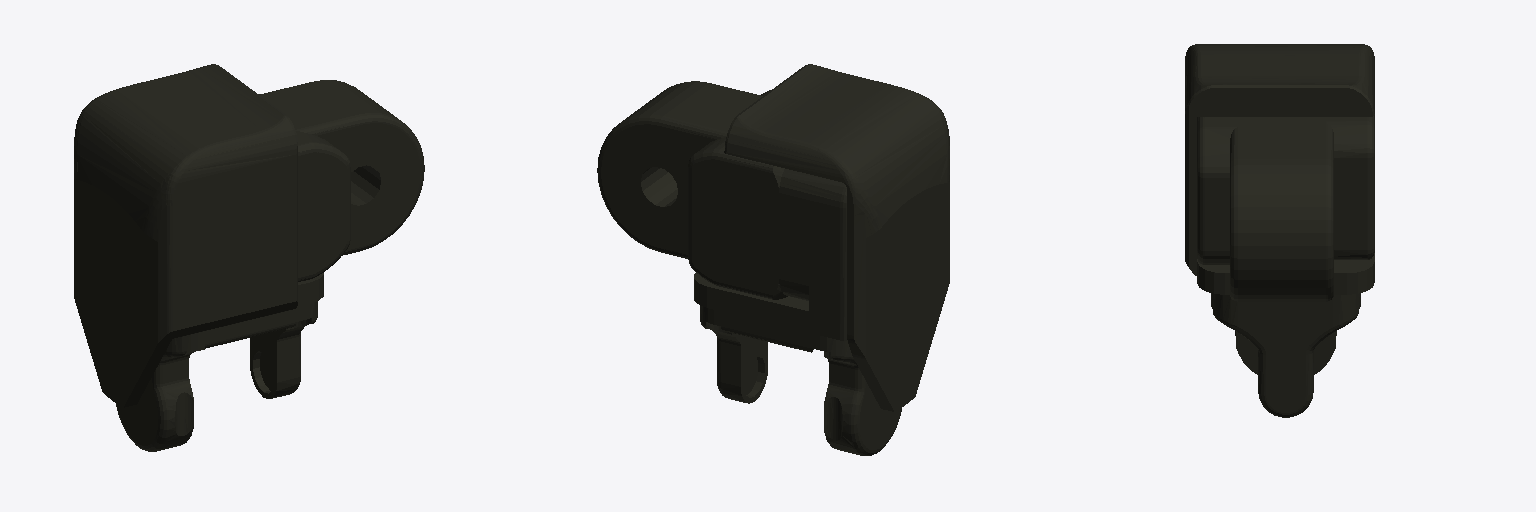
File: tesollo_right_rl_dg_4_1_visuals_rl_dg_4_1_mesh.obj
3 renders of one model, left to right at view 1: azimuth 30°, elevation 25°; view 2: azimuth 150°, elevation 25°; view 3: azimuth 270°, elevation 25°, orthographic.
Size of the model in its own units: 0.0428 by 0.0467 by 0.0239.